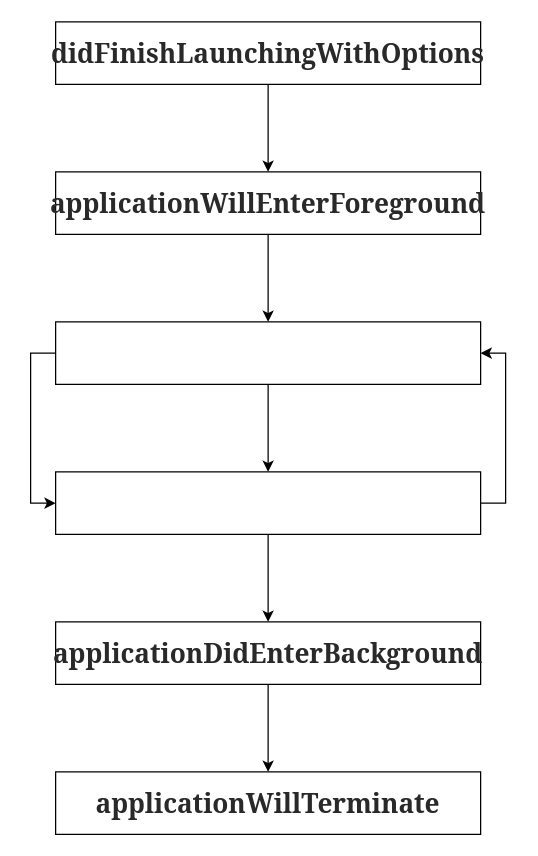
The diagram is 538 pixels wide and 856 high, and some of its shapes have lost their labels. Each missing label, with the centre of its shape:
"applicationDidBecomeActive" belongs at (x=267, y=352).
"applicationWillResignActive" belongs at (x=267, y=502).
